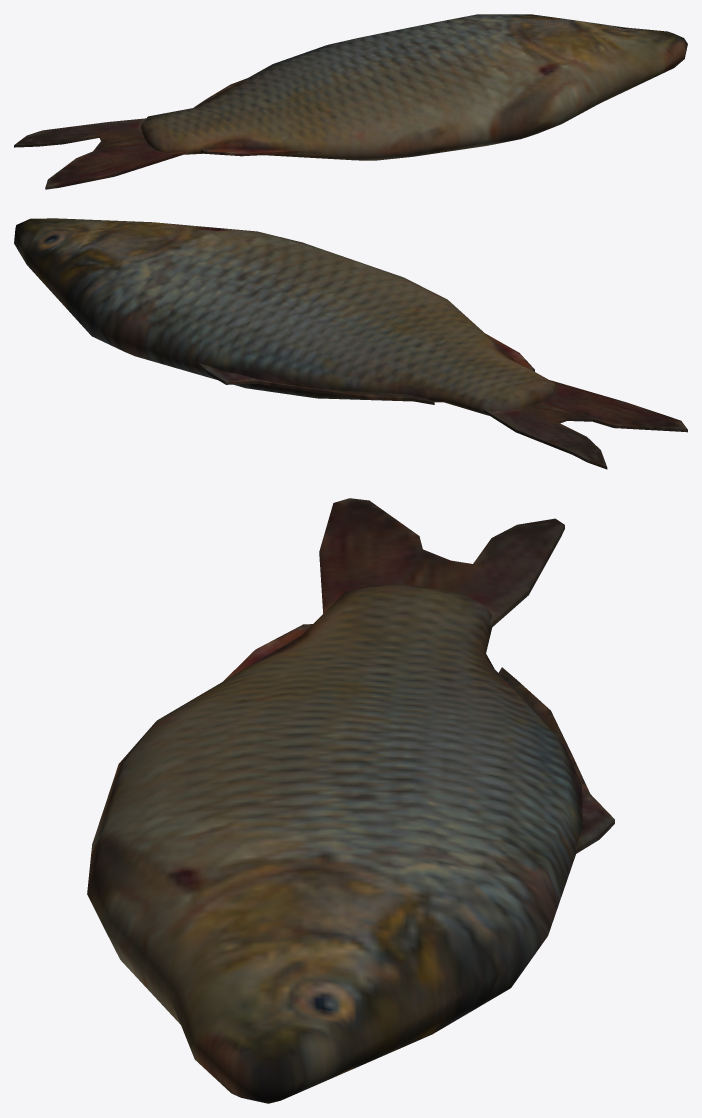
The model's file is fish_mx_1.fbx.
The picture shows the model from 3 angles, top to bottom: view 1: azimuth 30°, elevation 25°; view 2: azimuth 150°, elevation 25°; view 3: azimuth 270°, elevation 25°; orthographic projection. The views are drawn at different scales.
Visible parts, largest first — view 1: fish_mx_1; view 2: fish_mx_1; view 3: fish_mx_1.
Boxes of the visible parts, x1=… form: fish_mx_1: x1=14, y1=14, x2=687, y2=189; fish_mx_1: x1=14, y1=218, x2=687, y2=469; fish_mx_1: x1=87, y1=498, x2=614, y2=1103.
Bounding box in the file's own units: 0.5561 × 0.2052 × 0.0641.
